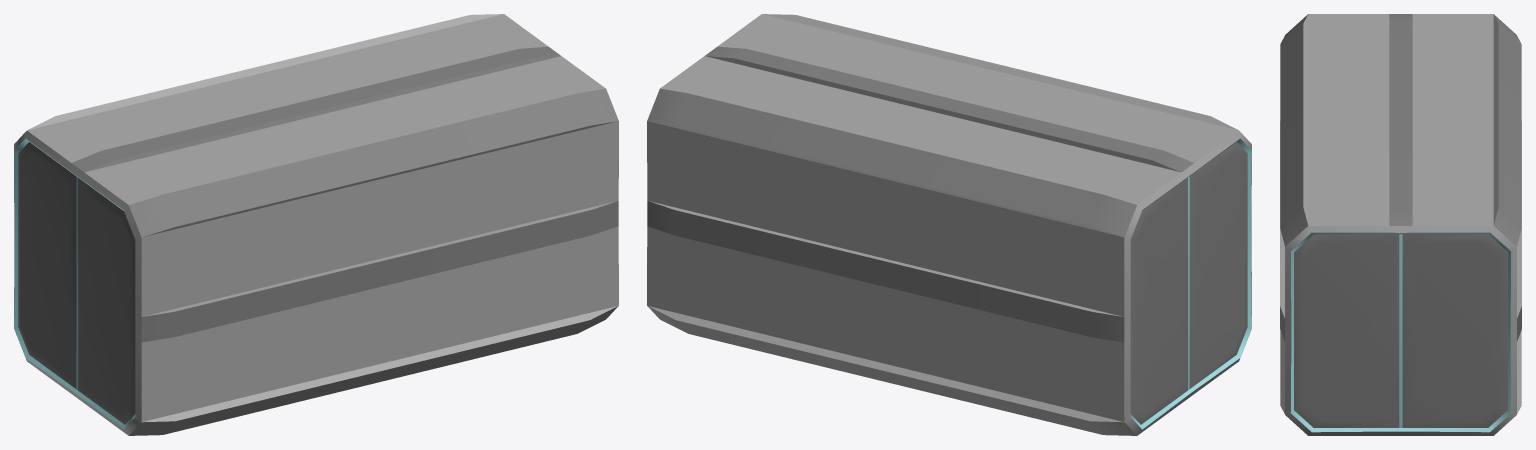
The model's file is Storage large.fbx.
3 views of the same model, side by side, from view 1: azimuth 30°, elevation 25°; view 2: azimuth 150°, elevation 25°; view 3: azimuth 270°, elevation 25° (orthographic). The views are drawn at different scales.
Visible parts, largest first — view 1: Storage_Container_Big; view 2: Storage_Container_Big; view 3: Storage_Container_Big.
Part boxes in pixels (bbox=[...]): Storage_Container_Big: bbox=[14, 14, 618, 435]; Storage_Container_Big: bbox=[647, 14, 1251, 435]; Storage_Container_Big: bbox=[1280, 14, 1521, 435].
Size of the model in its own units: 22.89 by 10.89 by 10.89.
